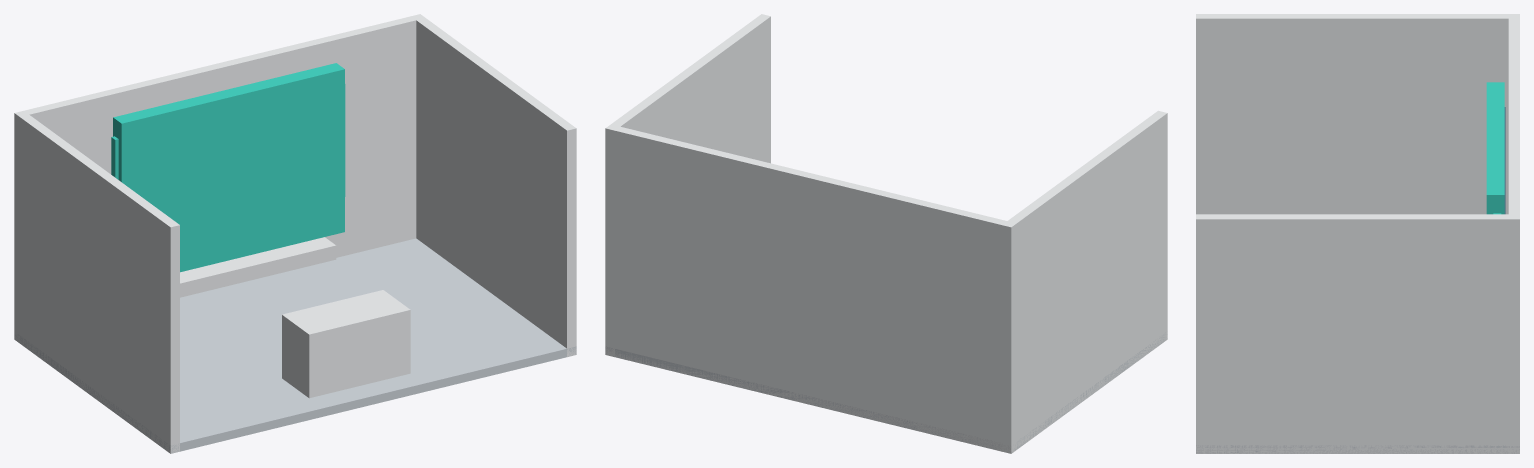
3 renders of one model, left to right at view 1: azimuth 30°, elevation 25°; view 2: azimuth 150°, elevation 25°; view 3: azimuth 270°, elevation 25°, orthographic. The views are drawn at different scales.
Visible parts, largest first — view 1: Exhibition Booth Concept; view 2: Exhibition Booth Concept; view 3: Exhibition Booth Concept.
Boxes of the visible parts, bbox=[...] form: Exhibition Booth Concept: bbox=[14, 14, 576, 453]; Exhibition Booth Concept: bbox=[605, 14, 1167, 453]; Exhibition Booth Concept: bbox=[1196, 14, 1519, 453].
Size of the model in its own units: 6 by 3.2 by 4.
